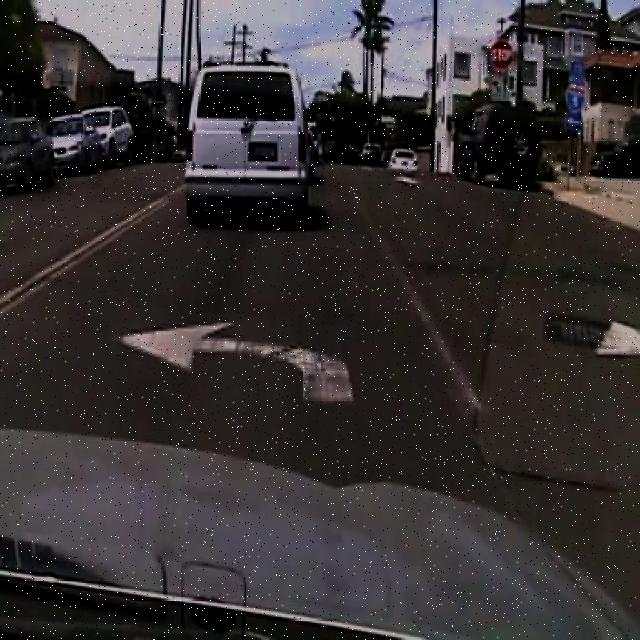Stop: (488, 35, 514, 71)
